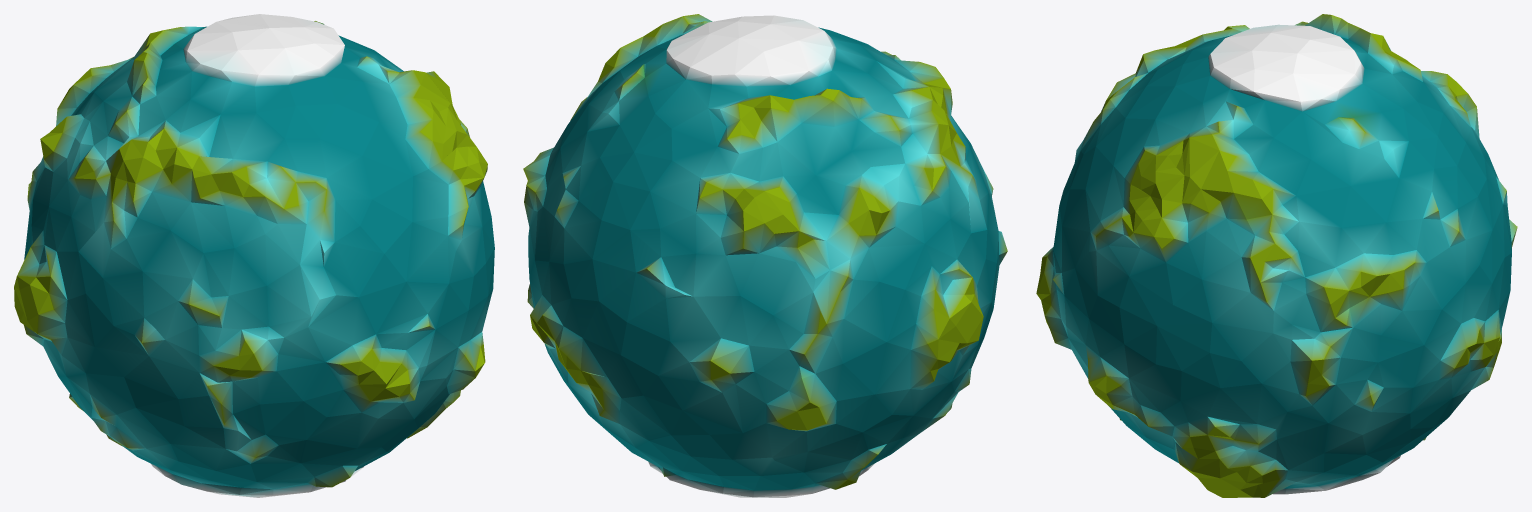
File: planet_76.fbx
3 renders of one model, left to right at view 1: azimuth 30°, elevation 25°; view 2: azimuth 150°, elevation 25°; view 3: azimuth 270°, elevation 25°, orthographic. The views are drawn at different scales.
Parts seen in each view (by area): view 1: file1; view 2: file1; view 3: file1.
Boxes of the visible parts, left/top/right/bottom form: file1: left=14, top=14, right=494, bottom=497; file1: left=523, top=14, right=1007, bottom=497; file1: left=1036, top=14, right=1517, bottom=497.
Bounding box in the file's own units: 2.15 × 2.05 × 2.1.
